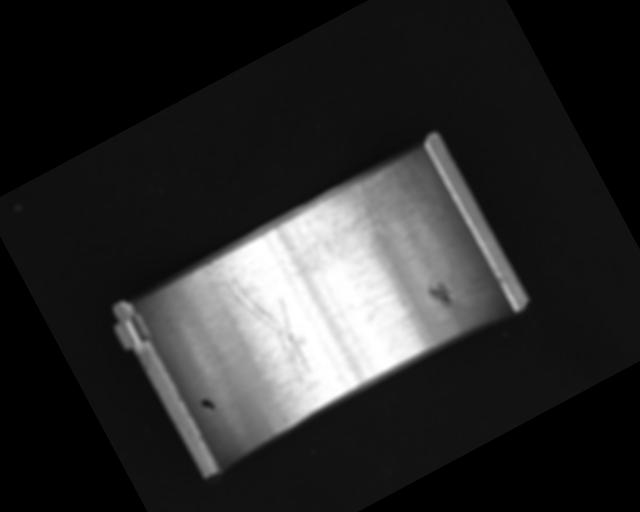blot: (198, 394, 218, 416)
bruise: (425, 278, 456, 311)
nick: (206, 239, 324, 397)
scratch: (286, 167, 420, 289)
